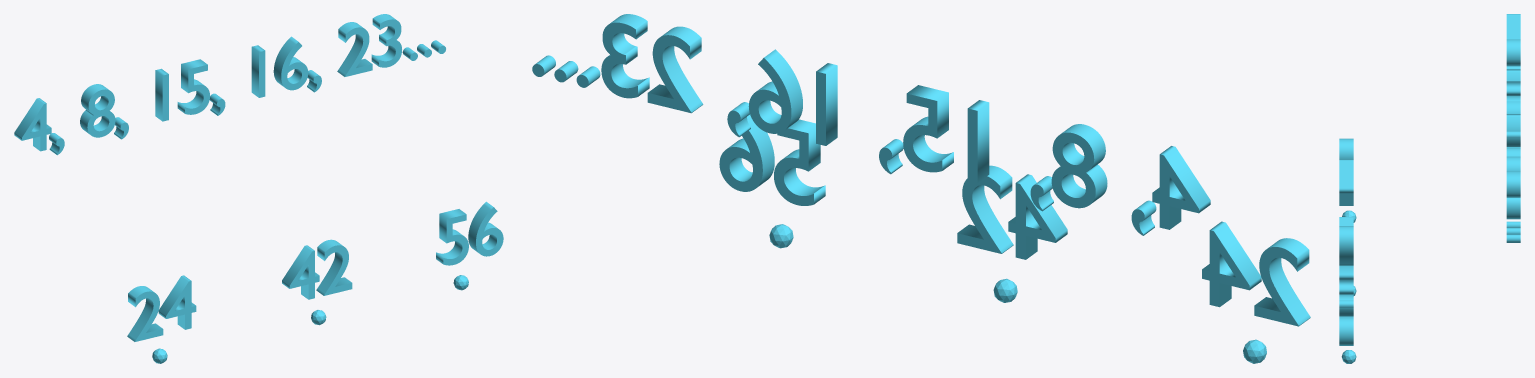
File: console_test_009.fbx
3 views of the same model, side by side, from view 1: azimuth 30°, elevation 25°; view 2: azimuth 150°, elevation 25°; view 3: azimuth 270°, elevation 25° (orthographic). The views are drawn at different scales.
Visible parts, largest first — view 1: Txt_Test_01.027, Failure.025, Failure.024, Success.043; view 2: Txt_Test_01.027, Failure.024, Success.043, Failure.025; view 3: Txt_Test_01.027, Failure.024, Failure.025, Success.043, Untitled.012.
Part boxes in pixels (<box>): Txt_Test_01.027: <box>14,14,445,155</box>; Failure.025: <box>436,201,503,265</box>; Failure.024: <box>127,275,196,341</box>; Success.043: <box>282,239,352,299</box>; Txt_Test_01.027: <box>532,14,1210,235</box>; Failure.024: <box>1202,221,1310,326</box>; Success.043: <box>957,165,1067,259</box>; Failure.025: <box>719,114,825,205</box>; Txt_Test_01.027: <box>1506,14,1520,242</box>; Failure.024: <box>1339,138,1353,205</box>; Failure.025: <box>1339,279,1353,345</box>; Success.043: <box>1339,217,1353,279</box>; Untitled.012: <box>1341,350,1356,363</box>.
Size of the model in its own units: 1.56 by 0.7241 by 0.609.
